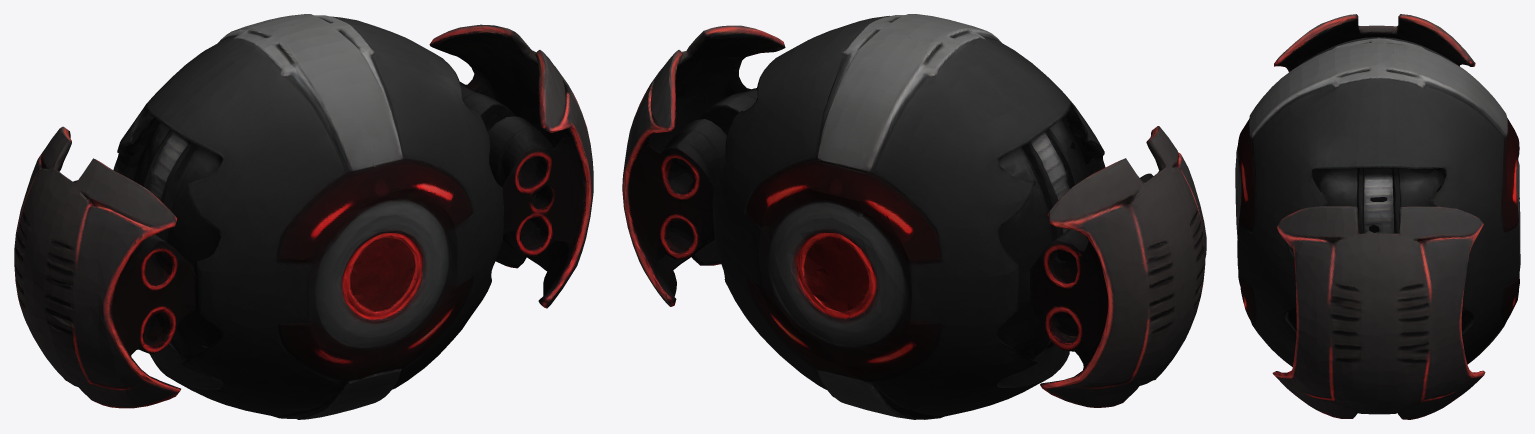
Rendered from Drone1.glb.
3 renders of one model, left to right at view 1: azimuth 30°, elevation 25°; view 2: azimuth 150°, elevation 25°; view 3: azimuth 270°, elevation 25°, orthographic. The views are drawn at different scales.
Visible parts, largest first — view 1: world; view 2: world; view 3: world.
Part boxes in pixels (x1,y1,x2,y2): world: (14, 14, 593, 419); world: (622, 14, 1206, 419); world: (1235, 14, 1520, 419).
Bounding box in the file's own units: 0.9993 × 0.6578 × 0.5144.
1 material, 1 textured.
